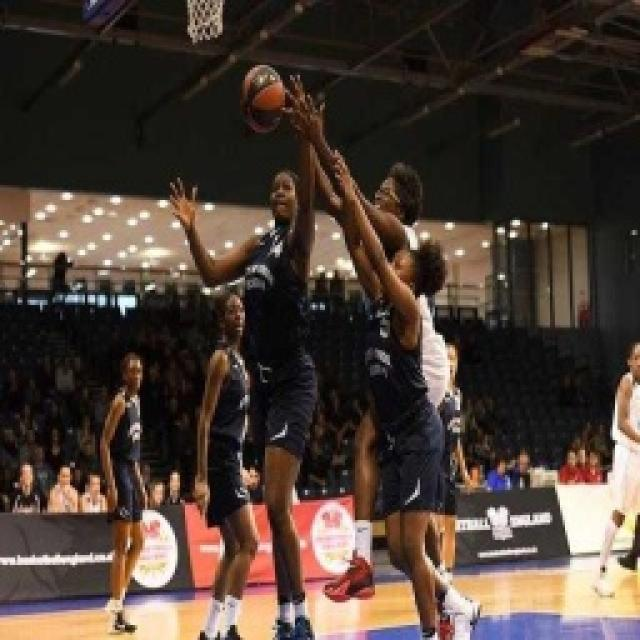rim: (232, 59, 296, 138)
